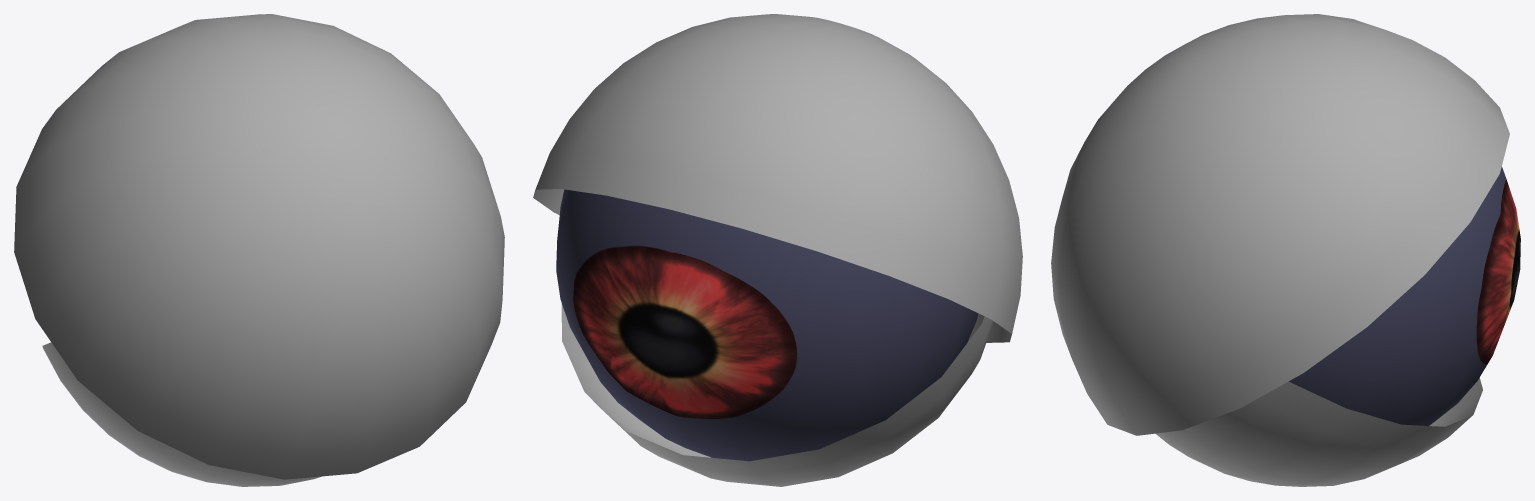
The model's file is theater_puzzle_bossEyeOpen.fbx.
The picture shows the model from 3 angles, left to right: view 1: azimuth 30°, elevation 25°; view 2: azimuth 150°, elevation 25°; view 3: azimuth 270°, elevation 25°; orthographic projection.
Visible parts, largest first — view 1: pSphere30; view 2: pSphere30; view 3: pSphere30.
Boxes of the visible parts, bbox=[...] form: pSphere30: bbox=[14, 14, 504, 486]; pSphere30: bbox=[533, 14, 1022, 486]; pSphere30: bbox=[1051, 14, 1520, 486].
Size of the model in its own units: 258 by 241 by 240.
